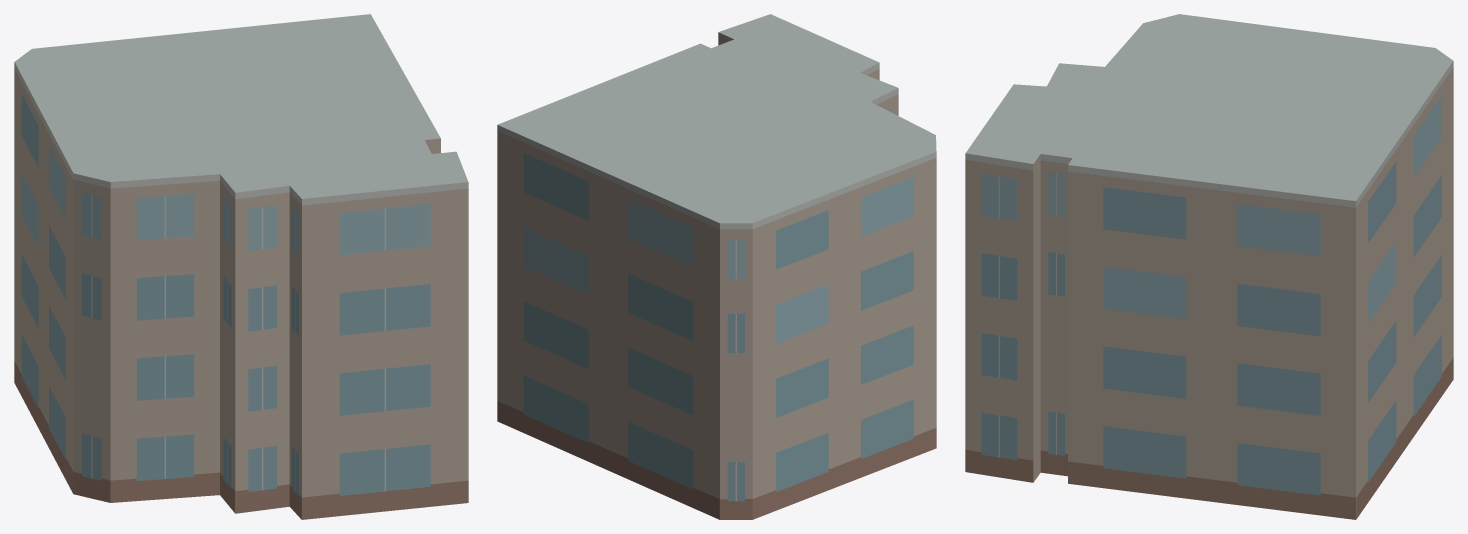
The model's file is survey-upis-32822417.glb.
The picture shows the model from 3 angles, left to right: view 1: azimuth 30°, elevation 25°; view 2: azimuth 150°, elevation 25°; view 3: azimuth 270°, elevation 25°; orthographic projection. The views are drawn at different scales.
Visible parts, largest first — view 1: survey-upis-32822417.tmp; view 2: survey-upis-32822417.tmp; view 3: survey-upis-32822417.tmp.
Boxes of the visible parts, x1,y1,x2,y2 form: survey-upis-32822417.tmp: [14, 14, 468, 519]; survey-upis-32822417.tmp: [497, 14, 936, 519]; survey-upis-32822417.tmp: [965, 14, 1453, 519].
Size of the model in its own units: 15.19 by 12.05 by 16.73.
